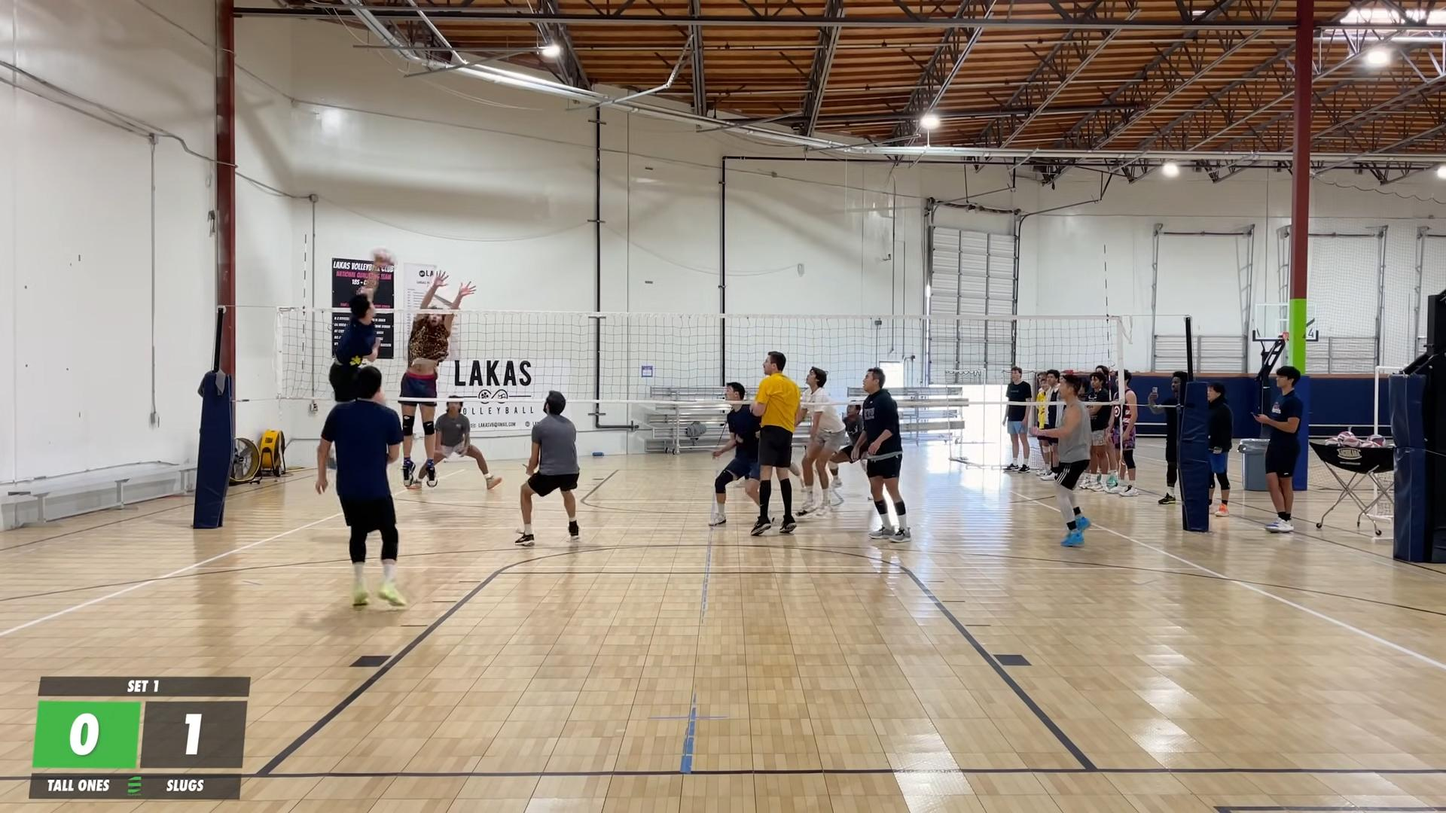Attack: (324, 258, 387, 371)
Player: (316, 367, 405, 606), (400, 283, 474, 486), (515, 391, 579, 546), (853, 367, 910, 541), (750, 351, 801, 535), (1036, 374, 1090, 547), (709, 382, 760, 526), (798, 367, 847, 516), (433, 401, 502, 489), (829, 403, 862, 505)
ball: (368, 245, 394, 265)
